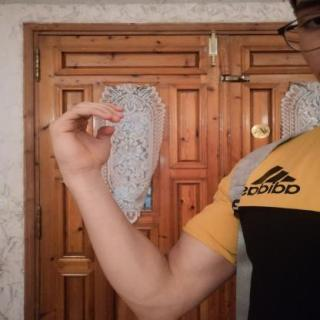JEEM: (35, 93, 136, 181)
